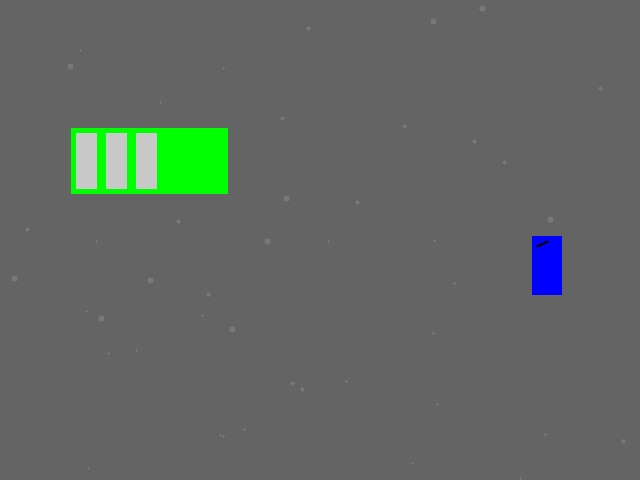bus: (71, 128, 227, 193)
motorcycle: (532, 236, 561, 294)
